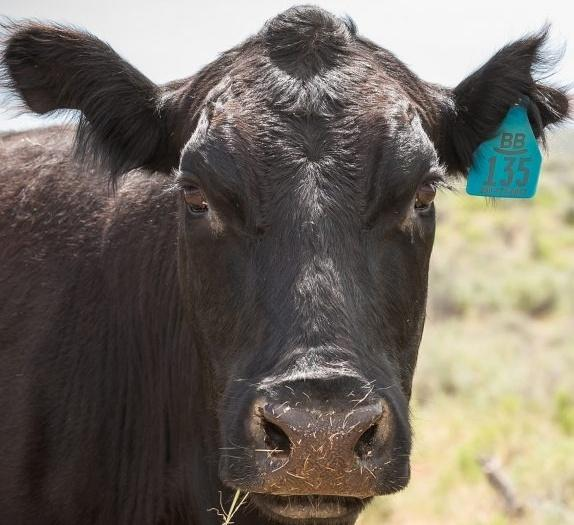muzzles: (214, 387, 415, 523)
